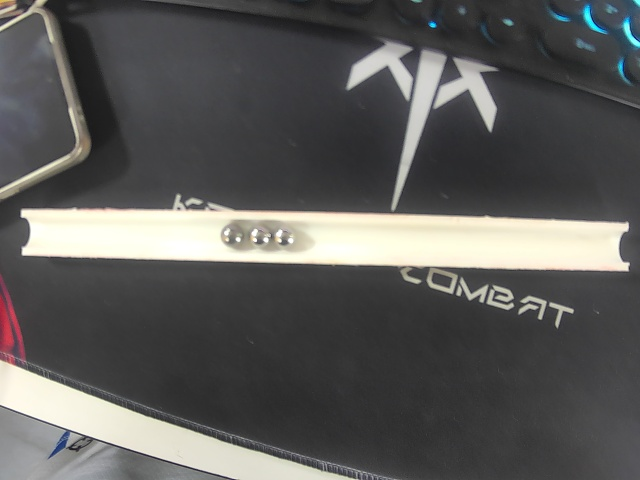steelball: (220, 222, 246, 249), (249, 225, 273, 248), (274, 225, 297, 248)
